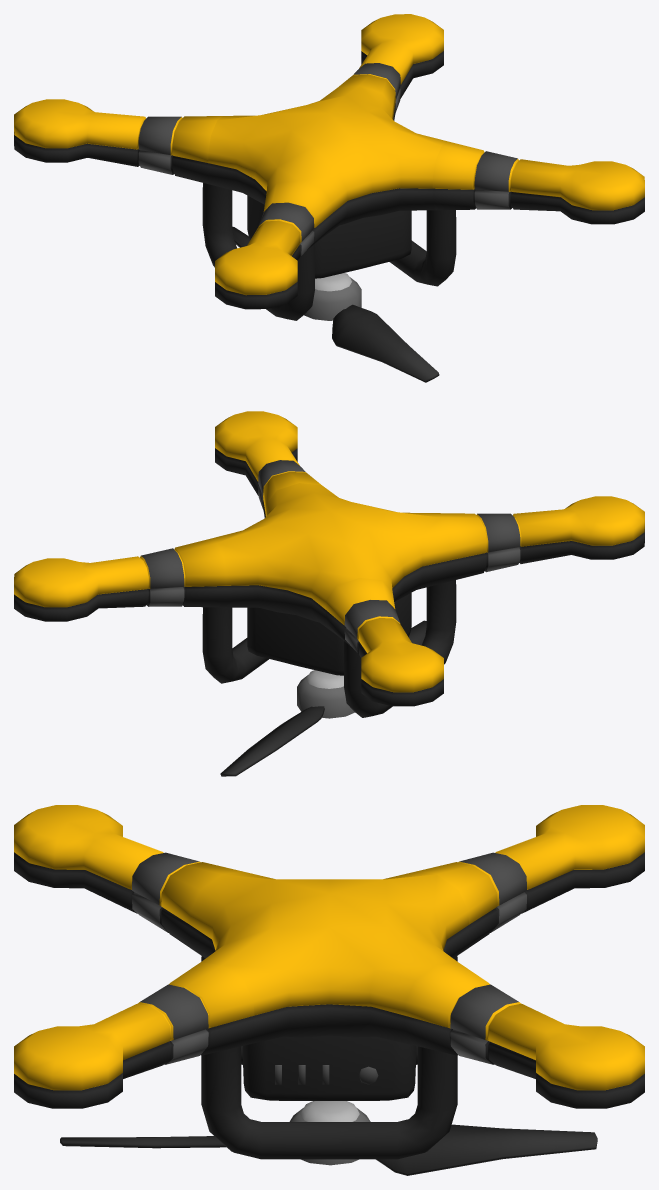
Rendered from drone2.fbx.
3 renders of one model, top to bottom at view 1: azimuth 30°, elevation 25°; view 2: azimuth 150°, elevation 25°; view 3: azimuth 270°, elevation 25°, orthographic. The views are drawn at different scales.
Visible parts, largest first — view 1: pTorus2_1, pTorus2_2; view 2: pTorus2_1, pTorus2_2; view 3: pTorus2_1, pTorus2_2.
Boxes of the visible parts, x1,y1,x2,y2 form: pTorus2_1: (14,14,644,320); pTorus2_2: (232,226,439,382); pTorus2_1: (14,411,644,717); pTorus2_2: (220,620,426,776); pTorus2_1: (14,805,644,1159); pTorus2_2: (60,1101,597,1175).
Size of the model in its own units: 0.3777 by 0.1768 by 0.3777.
